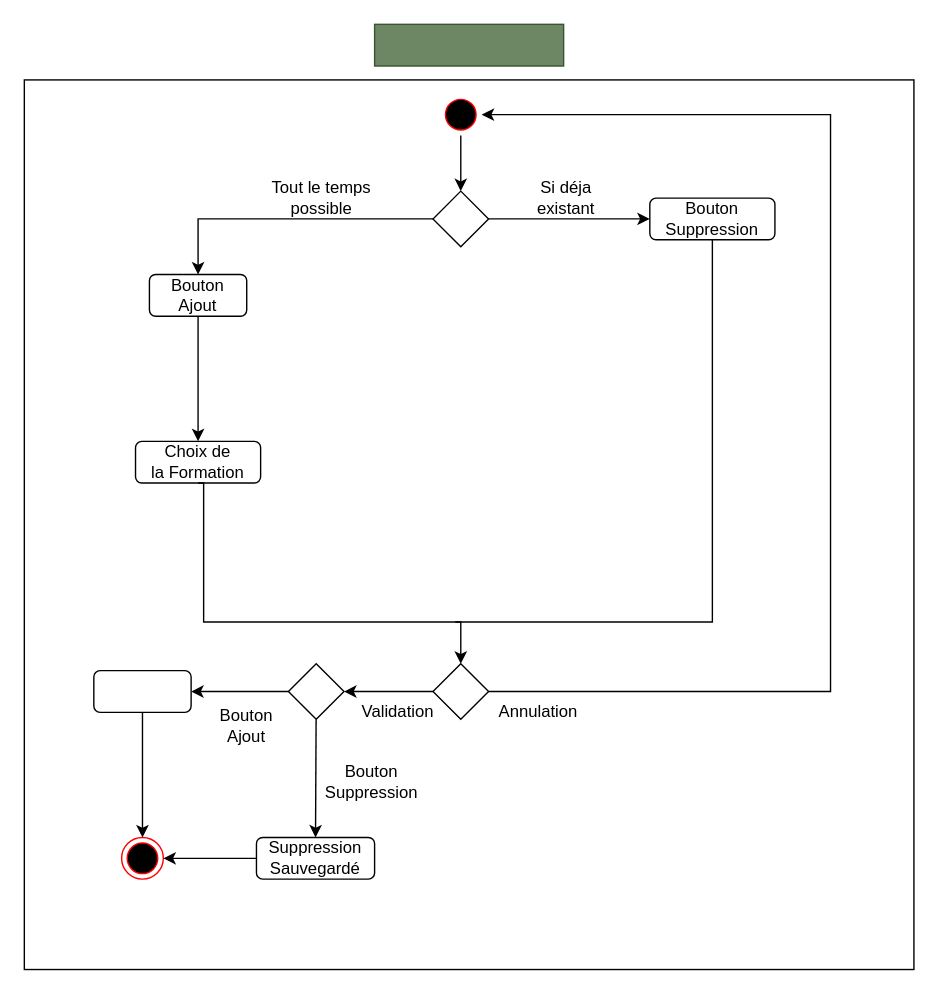
The diagram is 938 pixels wide and 994 high, and some of its shapes have lost their labels. Here are the shapes that lost their labels. From the top down, the centre of each, then its label:
the point at 468,44: Gestion des formations
the point at 141,690: Sauvegarde
